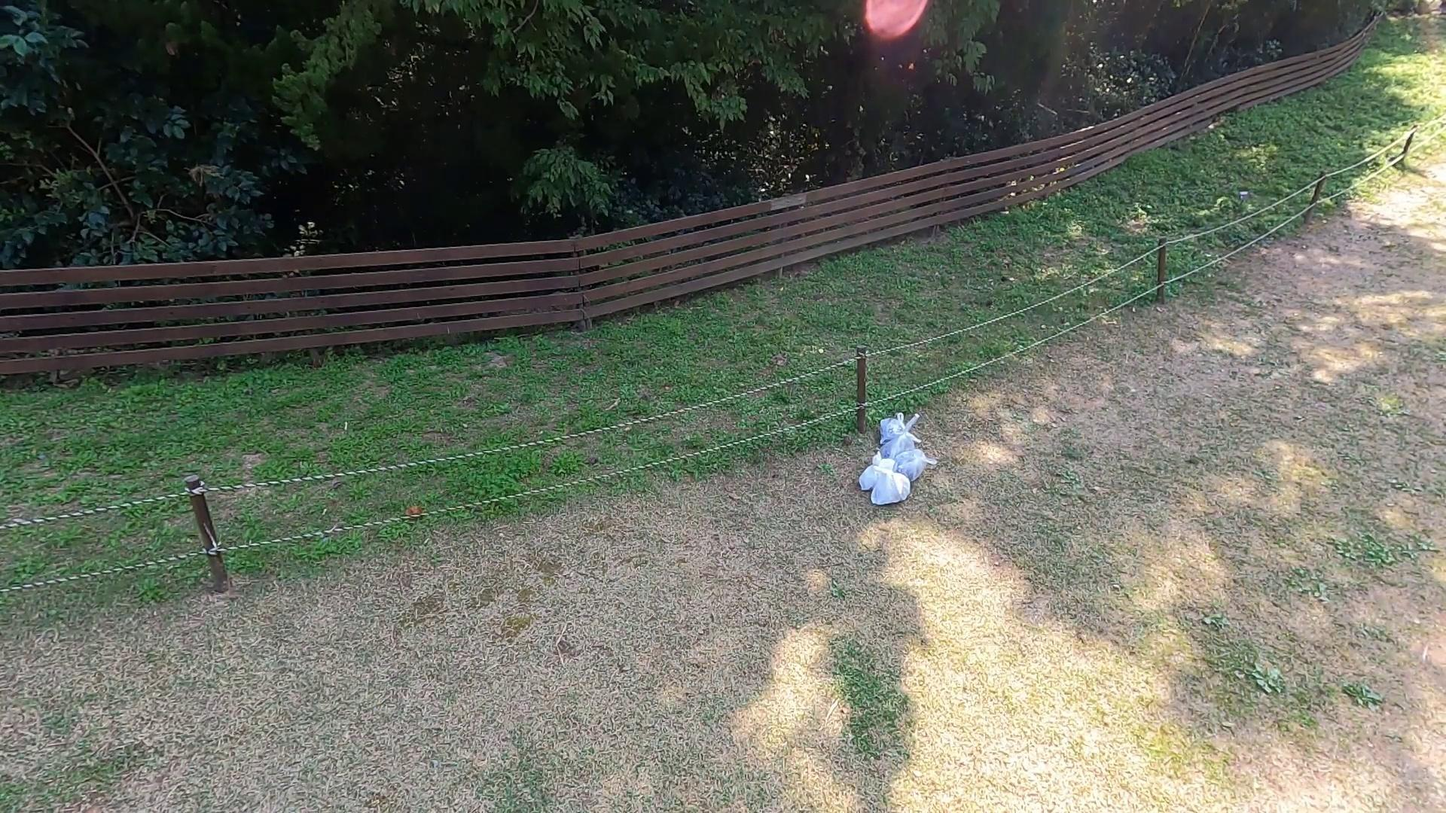trash: (878, 409, 921, 470), (887, 445, 942, 485), (870, 463, 911, 504), (860, 447, 892, 488), (875, 411, 905, 448)
